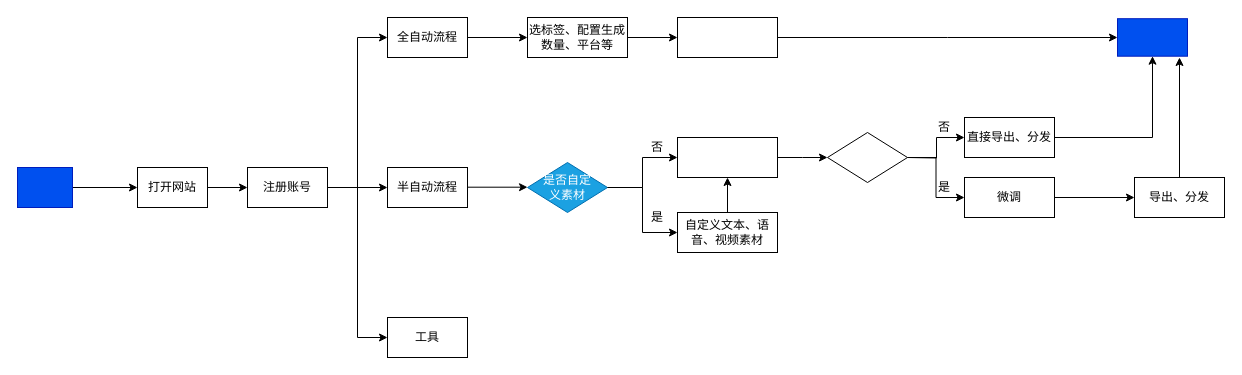
Image size: 1242x375. Some labels were removed from this diagram. The shapes that lost their labels are listed below. From the top down, each one's centre as x and y in pixels, then its label:
the point at 727,37: 按规则生成、分发
the point at 1152,37: 结束
the point at 727,157: 自动合成
the point at 867,157: 是否微调
the point at 44,187: 开始
